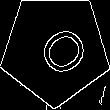O_SW: (23, 17, 88, 82)
